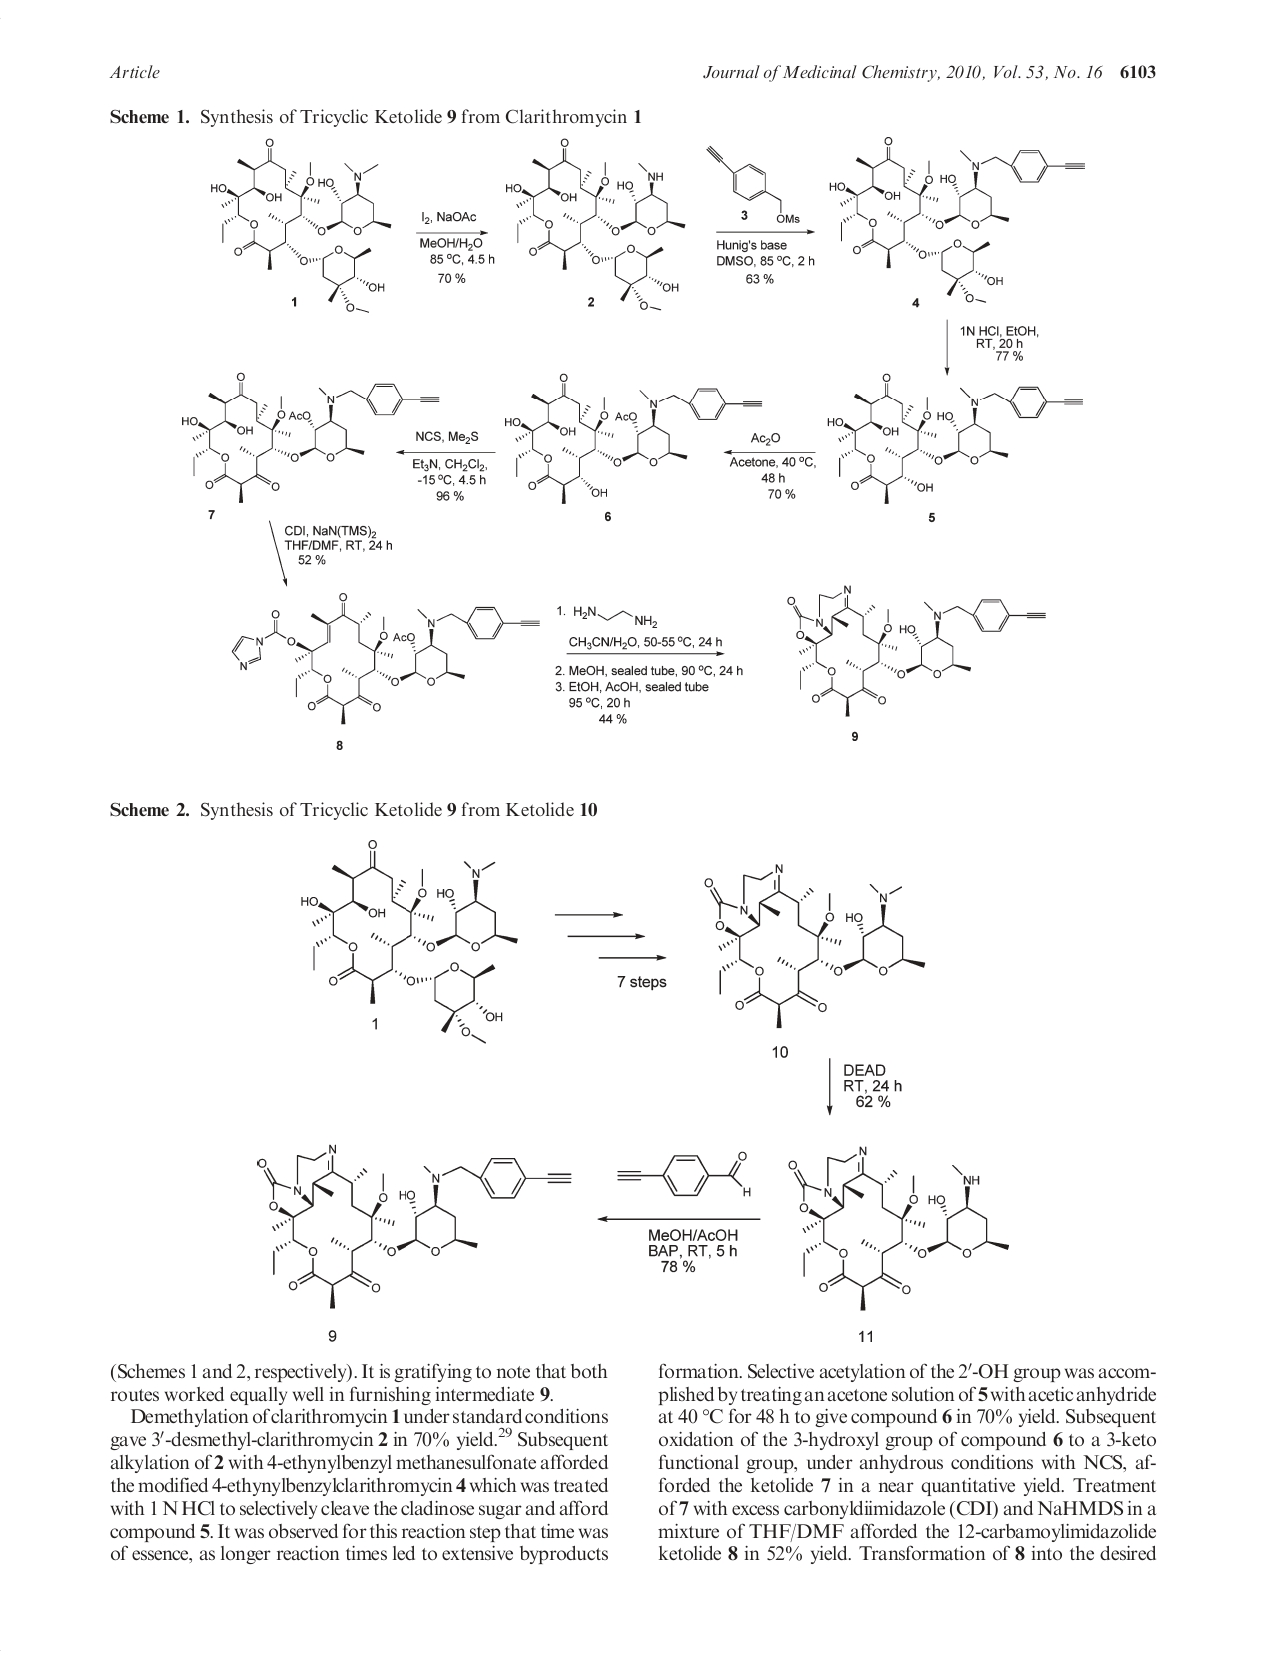exist_molecular: (255, 1142, 580, 1311), (299, 836, 521, 1047), (827, 132, 1086, 305), (786, 1142, 1015, 1314), (231, 602, 543, 727), (702, 860, 930, 1031), (178, 368, 443, 507), (501, 368, 765, 507), (786, 581, 1049, 718), (824, 370, 1085, 508), (207, 137, 395, 318), (503, 134, 688, 313), (701, 144, 803, 226), (614, 1144, 755, 1200), (569, 601, 660, 629)
